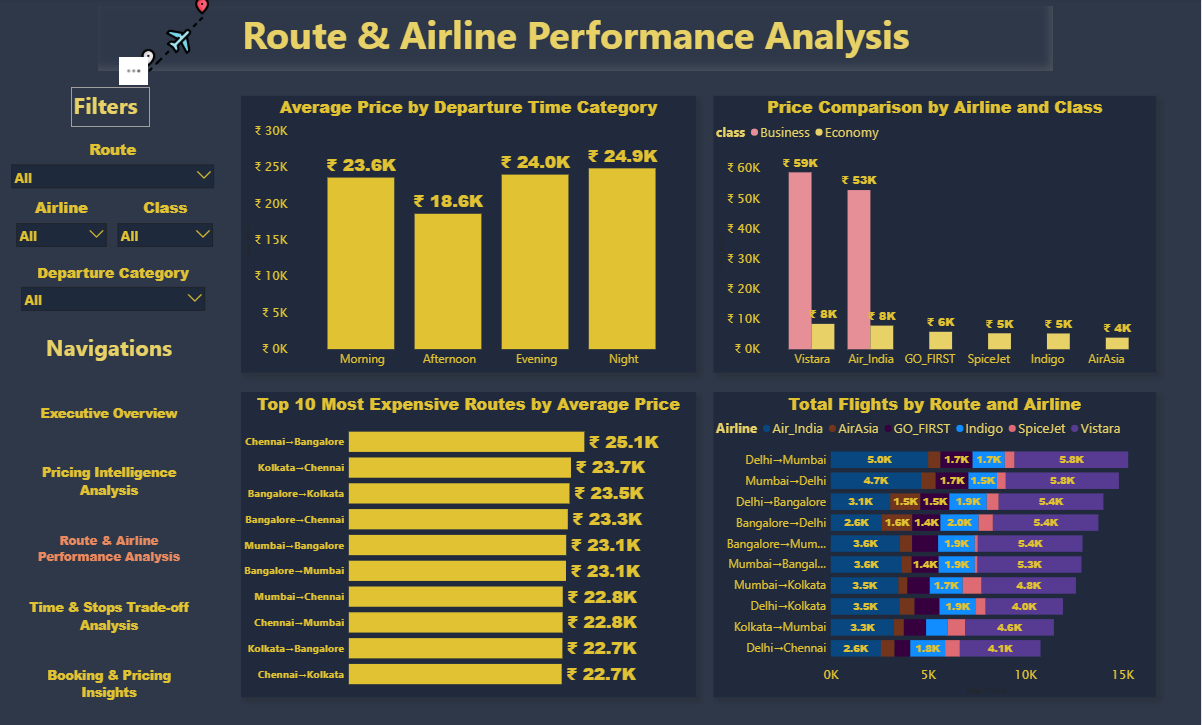

The page's visual inventory and layout, read from the dashboard file:
{"tool":"powerbi","page":{"name":"Route & Airline Performance Analysis","canvas":[2300,1400],"ordinal":2},"visuals":[{"type":"textbox","box":[195.1,17.1,1822,124.4],"z":0},{"type":"clusteredColumnChart","title":"Price Comparison by Airline and Class","fields":{"Y":["Airline.Avg_price"],"Category":["Airline.airline"],"Series":["Airline.class"]},"box":[1368.8,189.2,845.1,528.9],"z":1000},{"type":"image","box":[194.4,0,298.1,142.6],"z":2000},{"type":"clusteredColumnChart","title":"Average Price by Departure Time Category","fields":{"Y":["Airline.Avg_price"],"Category":["Departure_Sort_Table.Departure Category"]},"box":[466.6,189.2,868.5,528.9],"z":3000},{"type":"shape","box":[18.1,171.8,406.9,488.3],"z":4000},{"type":"slicer","title":"Airline","fields":{"Values":["Airline.airline"]},"box":[29.2,382.6,192.5,109.7],"z":5000},{"type":"slicer","title":"Route","fields":{"Values":["Airline.Route"]},"box":[19.5,270.5,407,131.6],"z":6000},{"type":"slicer","title":"Class","fields":{"Values":["Airline.class"]},"box":[221.8,382.6,202.3,109.7],"z":7000},{"type":"slicer","title":"Departure Category","fields":{"Values":["Airline.Departure Category"]},"box":[39,506.9,370.4,129.2],"z":8000},{"type":"textbox","box":[143.2,171.8,150.3,76.3],"z":9000},{"type":"textbox","box":[76.3,634.6,279.1,83.5],"z":10000},{"type":"clusteredBarChart","title":"Top 10 Most Expensive Routes by Average Price","fields":{"Category":["Airline.Route"],"Y":["Airline.Avg_price"]},"box":[466.6,754.4,868.5,583.3],"z":11000},{"type":"barChart","title":"Total Flights by Route and Airline","fields":{"Category":["Airline.Route"],"Y":["Airline.Total Flights"],"Series":["Airline.airline"]},"box":[1368.8,754.4,845.1,583.3],"z":12000},{"type":"pageNavigator","box":[39.2,735.5,355.7,639.1],"z":13000}]}

Visuals, with their boxes in screenshot pixels (x1, y1, x2, y2), scaled from the page's 2300x1400 canvas onto the 1202x725 screenshot:
textbox: rect(102, 9, 1054, 73)
"Price Comparison by Airline and Class" clusteredColumnChart: rect(715, 98, 1157, 372)
image: rect(102, 0, 257, 74)
"Average Price by Departure Time Category" clusteredColumnChart: rect(244, 98, 698, 372)
shape: rect(9, 89, 222, 342)
"Airline" slicer: rect(15, 198, 116, 255)
"Route" slicer: rect(10, 140, 223, 208)
"Class" slicer: rect(116, 198, 222, 255)
"Departure Category" slicer: rect(20, 263, 214, 329)
textbox: rect(75, 89, 153, 128)
textbox: rect(40, 329, 186, 372)
"Top 10 Most Expensive Routes by Average Price" clusteredBarChart: rect(244, 391, 698, 693)
"Total Flights by Route and Airline" barChart: rect(715, 391, 1157, 693)
pageNavigator: rect(20, 381, 206, 712)
